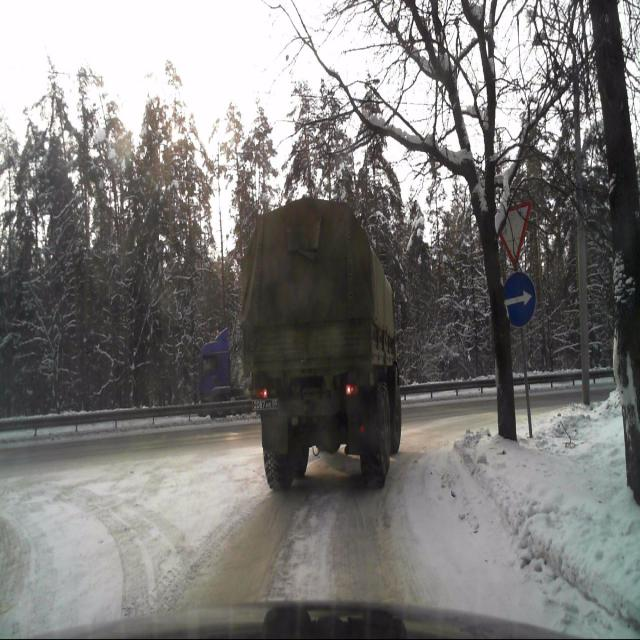object: (520, 330, 532, 442)
road sign: (496, 202, 534, 271)
